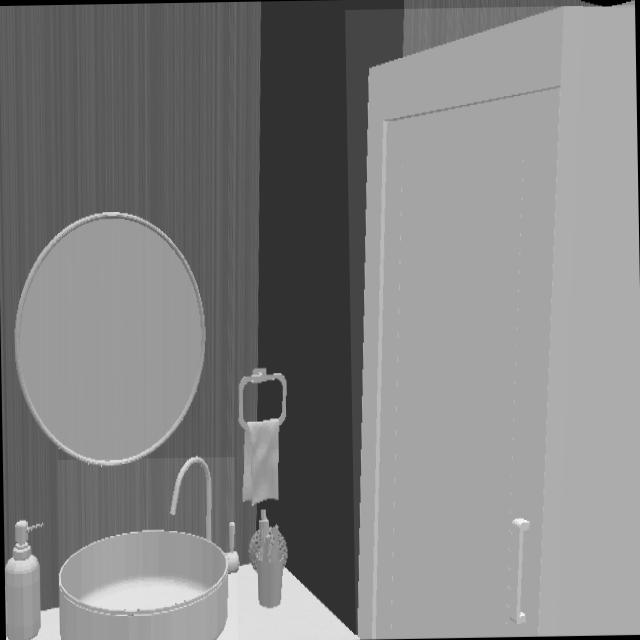shower: (355, 5, 640, 638)
washbasin: (60, 457, 236, 640)
